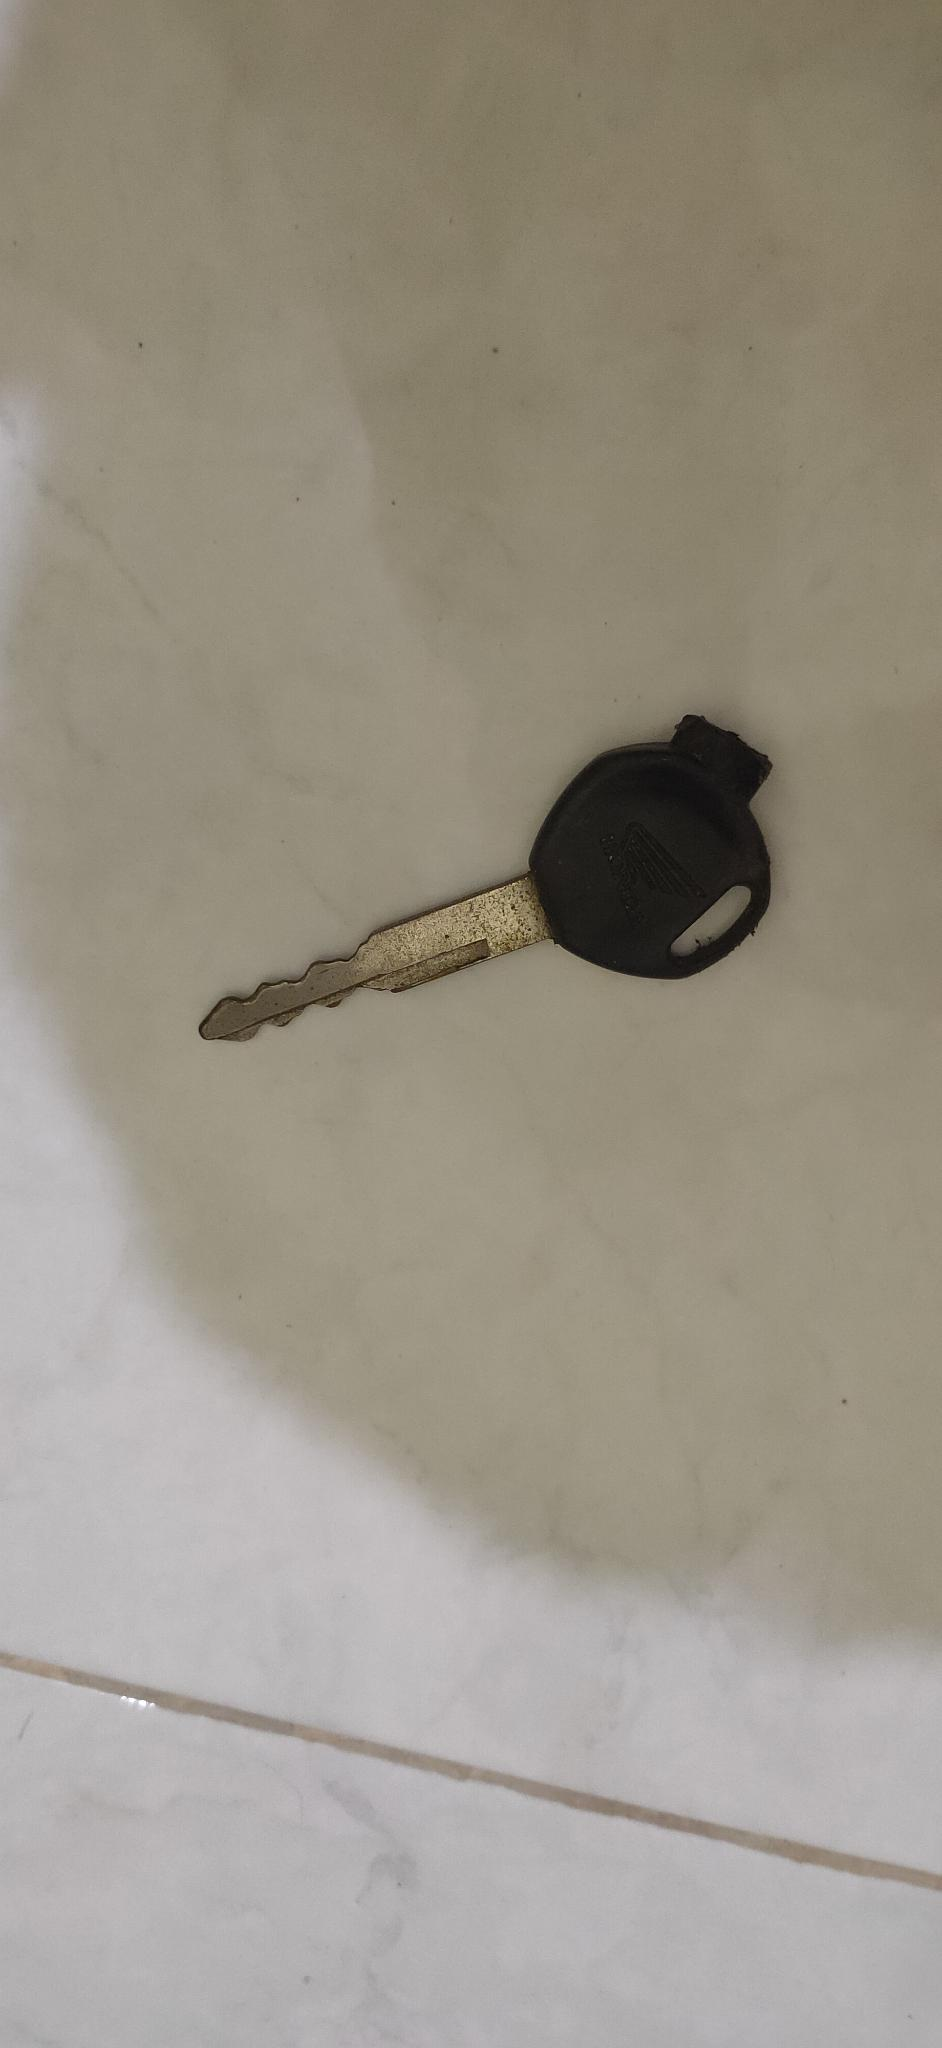keys: (184, 701, 811, 1070)
